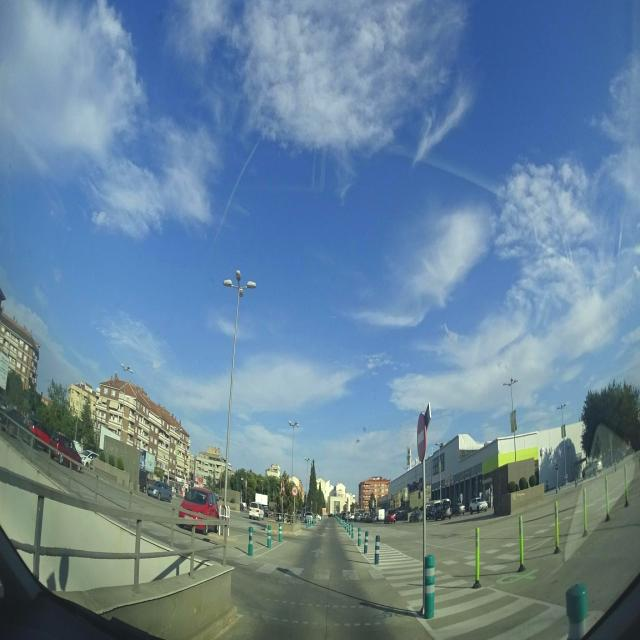car: (178, 487, 220, 534), (50, 430, 86, 470), (147, 481, 173, 502), (247, 501, 264, 521), (469, 497, 487, 514), (407, 507, 421, 523), (384, 509, 396, 524), (328, 511, 334, 518)
